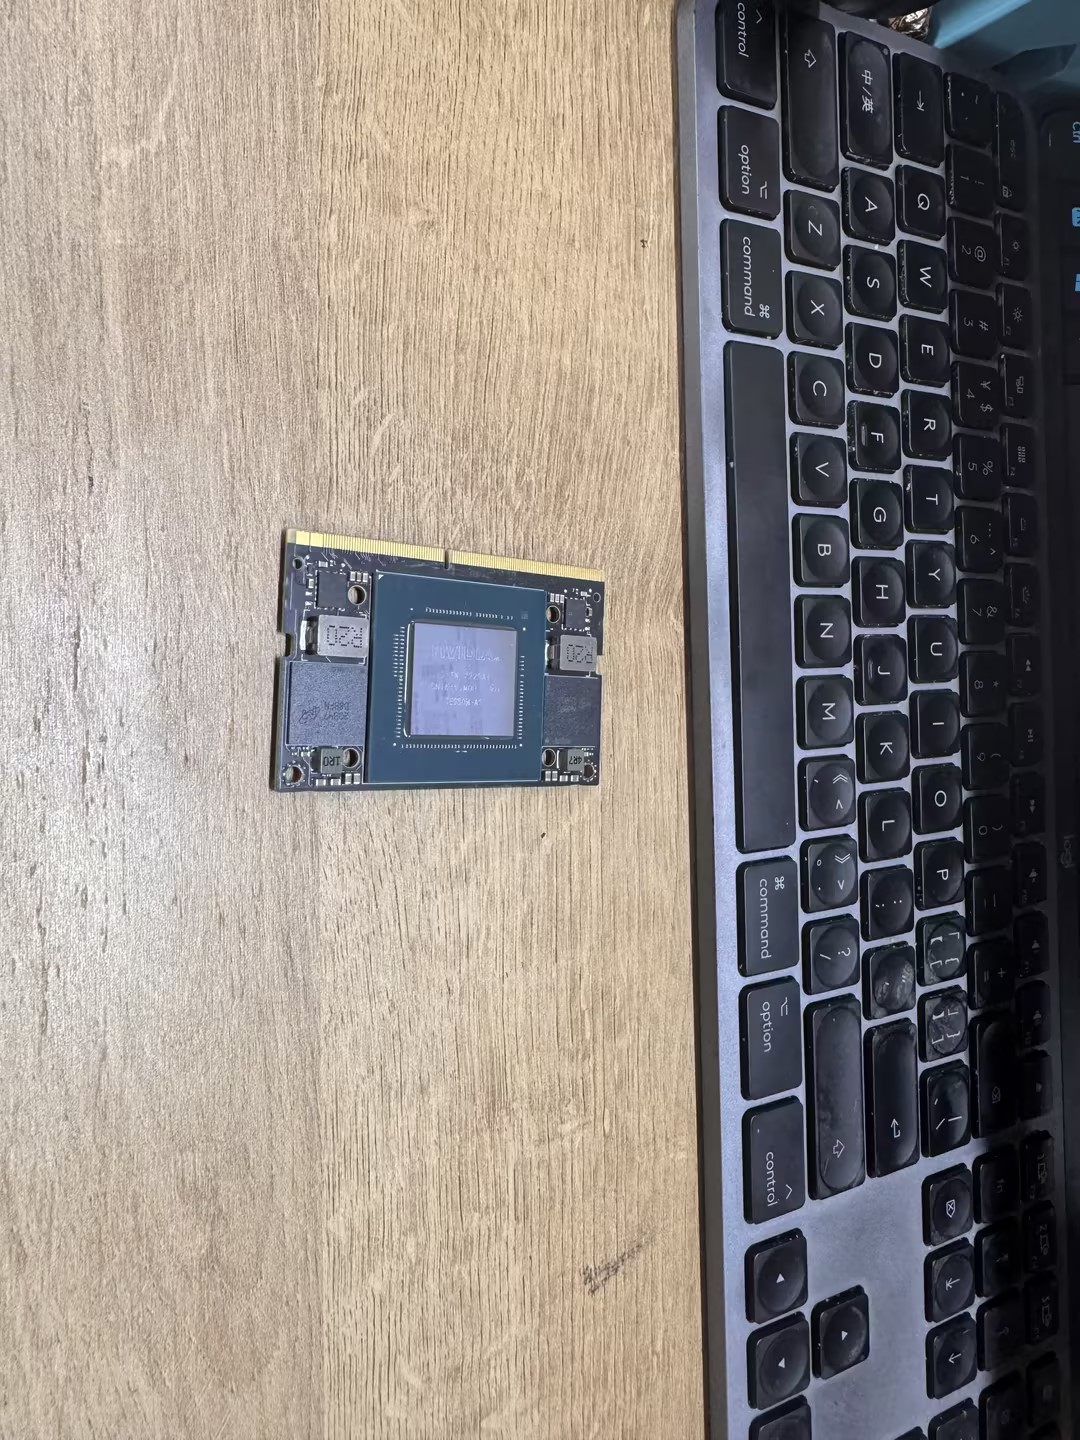Jetson Module: (241, 520, 632, 808)
